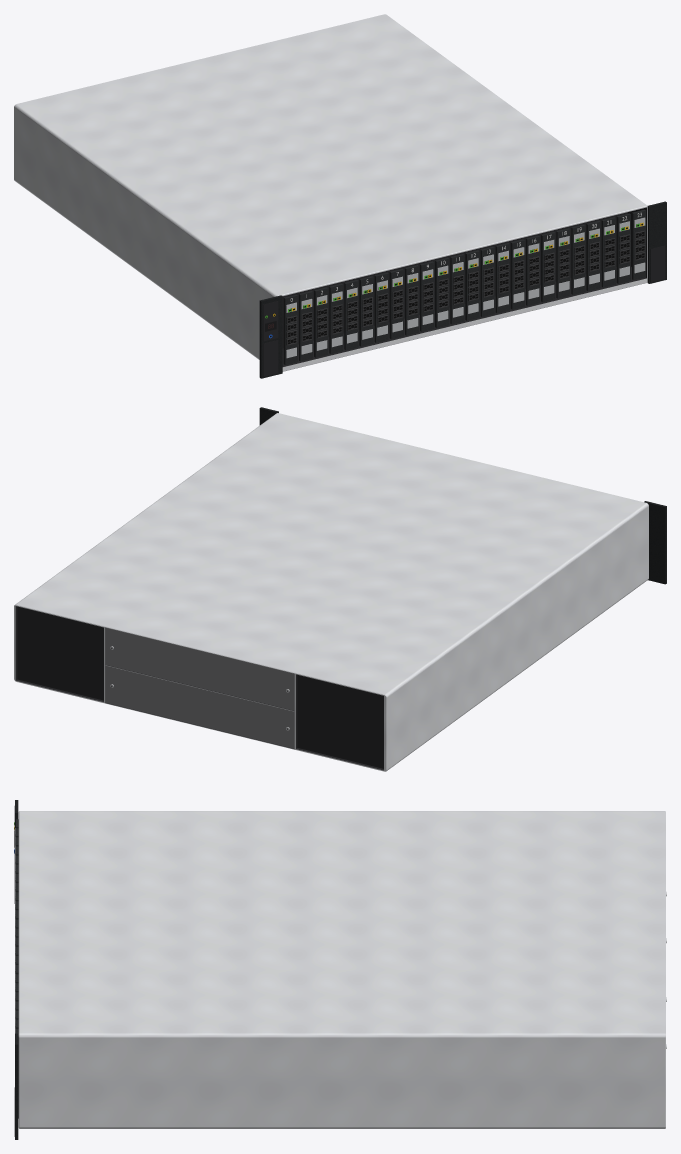
3 renders of one model, top to bottom at view 1: azimuth 30°, elevation 25°; view 2: azimuth 150°, elevation 25°; view 3: azimuth 270°, elevation 25°, orthographic. The views are drawn at different scales.
Parts seen in each view (by area): view 1: Shell, Drives, Rack_Ears; view 2: Shell, empty:Controller 1, empty:Controller 2, empty:PSU-1, empty:PSU-2, Rear, Rack_Ears; view 3: Shell, Drives, Rack_Ears.
Boxes of the visible parts, box(x1,y1,x2,y2) form: Shell: box(14, 14, 647, 371); Drives: box(283, 209, 645, 364); Rack_Ears: box(259, 201, 666, 378); Shell: box(14, 413, 648, 771); empty:Controller 1: box(105, 627, 294, 710); empty:Controller 2: box(105, 665, 294, 748); empty:PSU-1: box(17, 606, 103, 700); empty:PSU-2: box(297, 675, 383, 768); Rear: box(14, 605, 386, 771); Rack_Ears: box(259, 407, 666, 584); Shell: box(18, 811, 665, 1128); Drives: box(15, 819, 18, 1118); Rack_Ears: box(14, 800, 18, 1139).
Size of the model in its own units: 0.483 by 0.0879 by 0.5453.
17 materials, 3 textured.
